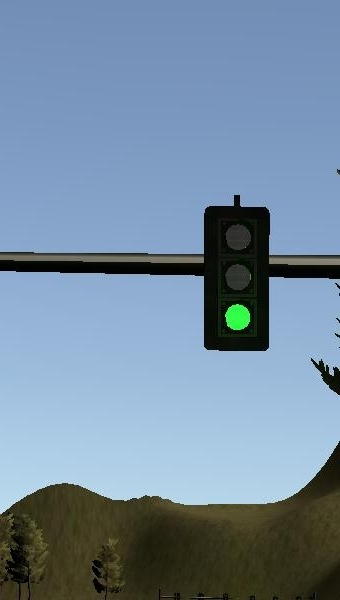Green: (202, 205, 269, 351)
